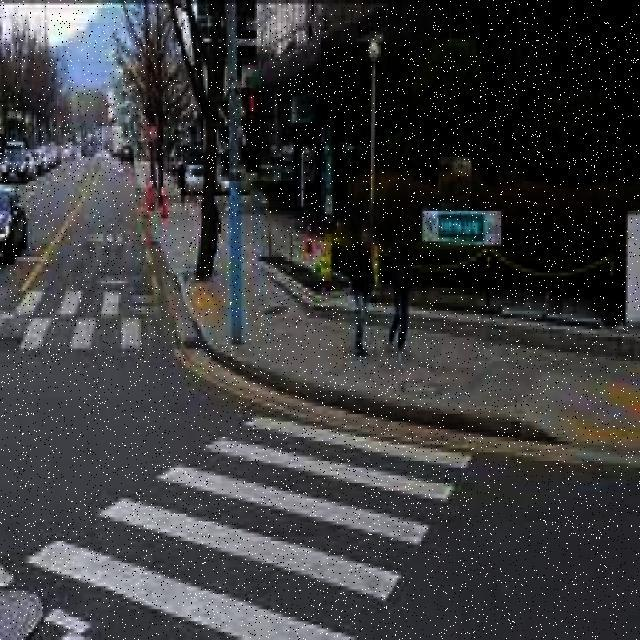crosswalk: (0, 411, 488, 637), (0, 286, 177, 364)
